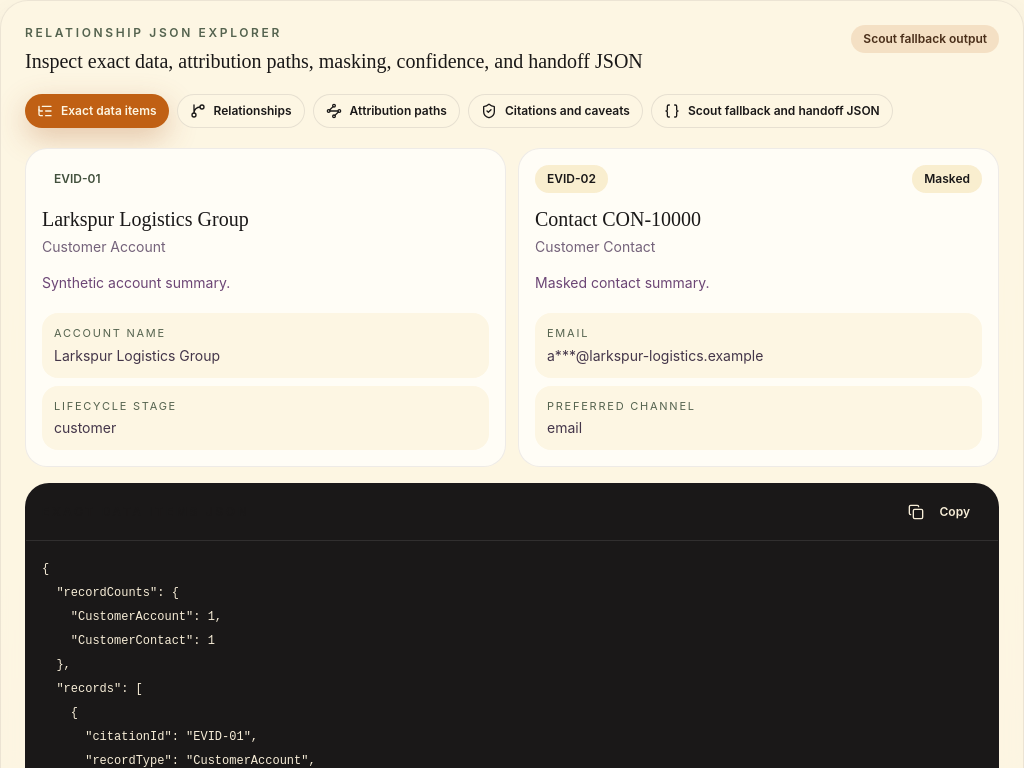
RelationshipJsonExplorer › surfaces exact data, attribution paths, masking, caveats, and handoff JSON
This screenshot has width=1024, height=768.
Expected: the text "Relationship JSON explorer" is shown, [25,25,282,40]
Expected: the text "EVID-01" is shown, [54,171,101,186]
Click the button "Attribution paths" at coordinates (386, 111), box [313,94,460,128]
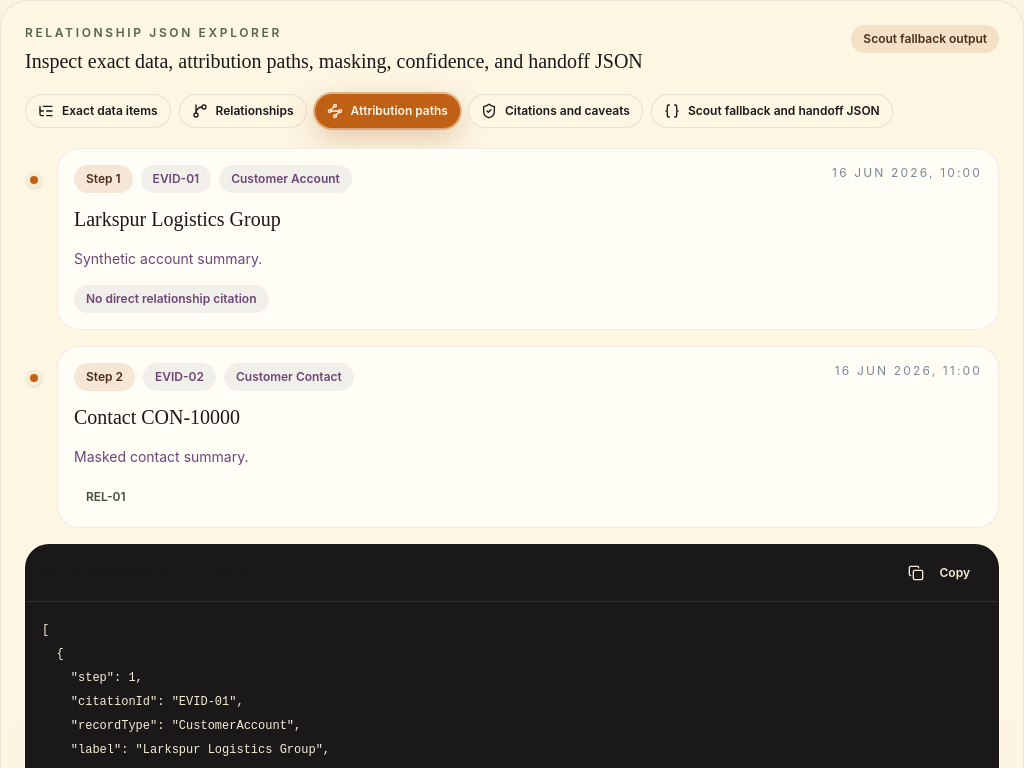
Expected: the text "Step 1" is shown, [74,165,133,193]
Click the button "Citations and caveats" at coordinates (556, 111), box [468,94,643,128]
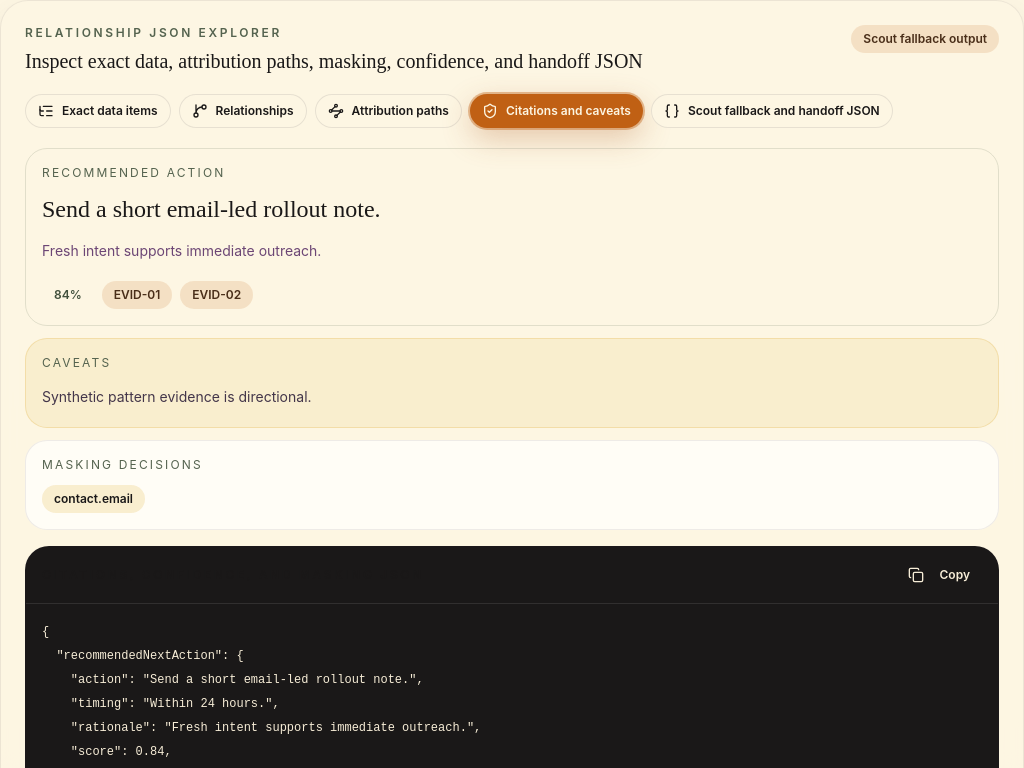
Expected: the heading "Send a short email-led rollout note." is shown, [42,196,381,222]
Expected: the list item "Synthetic pattern evidence is directional." is shown, [42,388,312,405]
Expected: the text "contact.email" is shown, [42,485,145,513]
Click the button "Scout fallback and handoff JSON" at coordinates (772, 111), box [651,94,893,128]
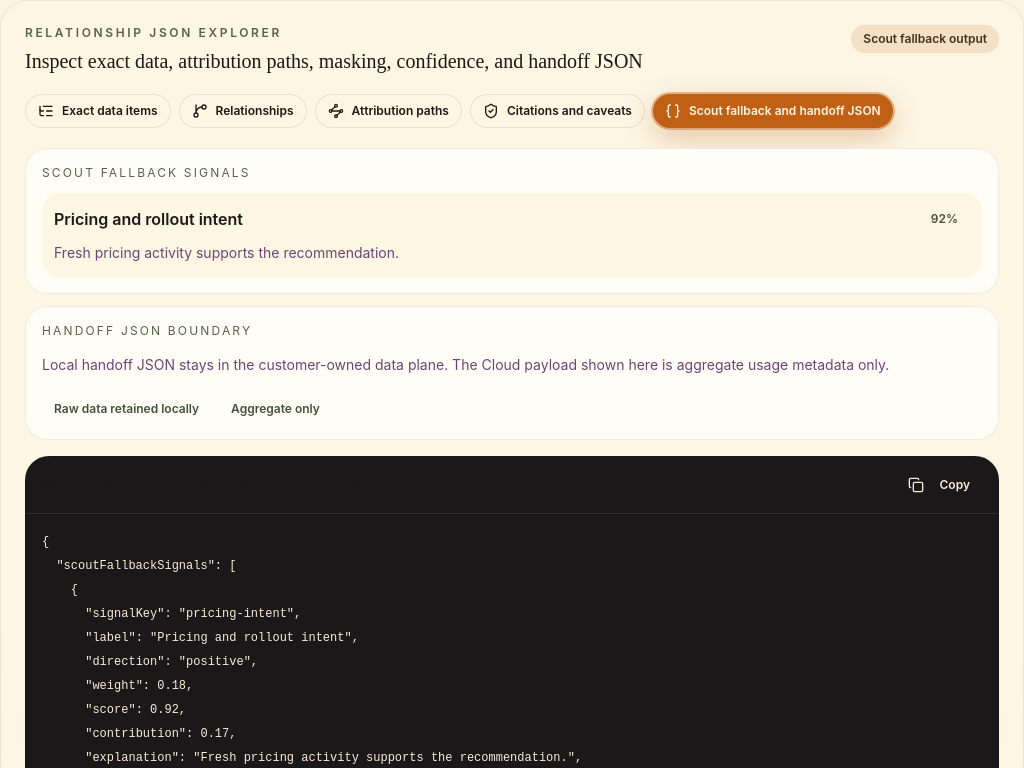
Expected: the text "Scout fallback signals" is shown, [42,165,251,180]
Expected: the text "Handoff JSON boundary" is shown, [42,323,252,338]
Expected: the text "Aggregate only" is shown, [231,401,320,416]
